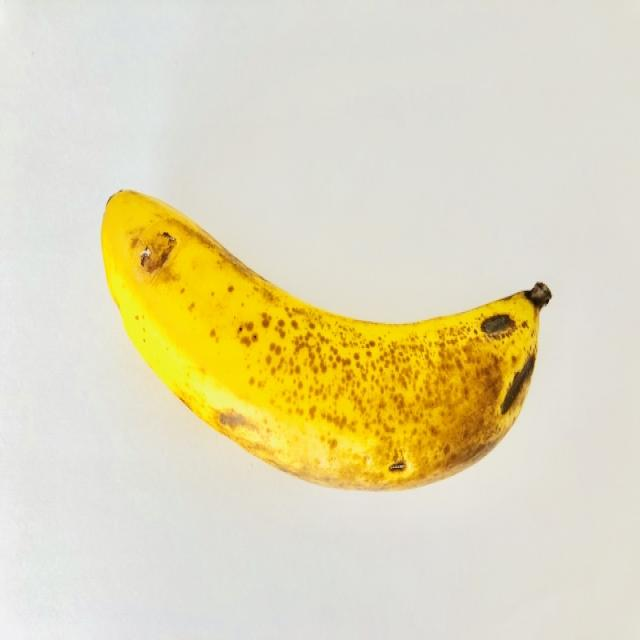Banana: (94, 188, 551, 485)
